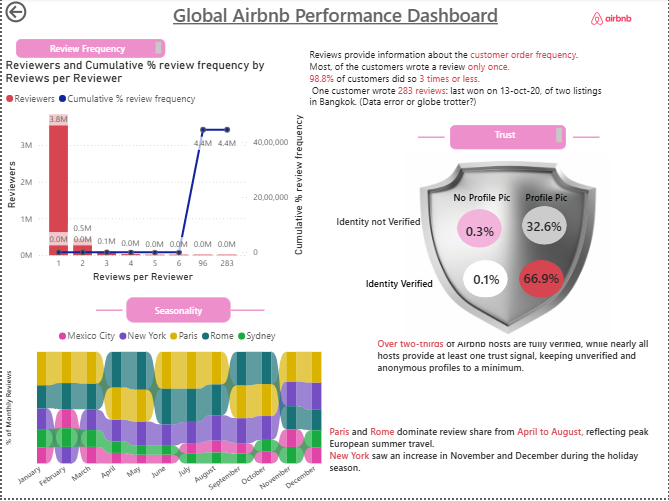

This screenshot's page, from the dashboard's own definition file:
{"tool":"powerbi","page":{"name":"Reviews","canvas":[960,720],"ordinal":2},"visuals":[{"type":"textbox","box":[112.1,0,735.8,59],"z":0},{"type":"image","box":[794.9,0,165.6,59],"z":1000},{"type":"textbox","box":[20.2,59,214.6,27.4],"z":2000},{"type":"actionButton","box":[0,0,100,40],"z":3000},{"type":"textbox","box":[437.4,67.5,433,116],"z":4000},{"type":"textbox","box":[644.4,183.5,167.3,35.2],"z":5000},{"type":"shape","box":[598.9,183.5,38.2,35.2],"z":6000},{"type":"shape","box":[822,183.5,38.2,35.2],"z":7000},{"type":"textbox","box":[535.8,484.4,424.2,79.3],"z":9000},{"type":"lineStackedColumnComboChart","fields":{"Category":["Reviews.Reviews per Reviewer"],"Y":["Reviews.Reviewers"],"Y2":["Reviews.Cumulative % review frequency"]},"box":[0,86.6,438.9,327.3],"z":10000},{"type":"image","box":[578.3,223.1,299.4,271.6],"z":10001},{"type":"shape","box":[663.5,377.2,64.6,54.3],"z":10003},{"type":"shape","box":[744.2,377.2,64.6,54.3],"z":10004},{"type":"shape","box":[748.6,299.4,64.6,55.8],"z":10005},{"type":"shape","box":[654.7,303.9,64.6,55.8],"z":10006},{"type":"textbox","box":[644.4,273,107.2,35.2],"z":10007},{"type":"textbox","box":[748.6,273,80.7,35.2],"z":10008},{"type":"textbox","box":[466.8,308.3,151.2,27.9],"z":10011},{"type":"textbox","box":[506.4,397.8,130.6,32.3],"z":10012},{"type":"card","fields":{"Values":["Listings.NotVerified_noProfile%"]},"box":[659.1,321.5,57.2,33.8],"z":10013},{"type":"card","fields":{"Values":["Listings.Verified_Profile%"]},"box":[741.3,387.5,70.5,35.2],"z":10015},{"type":"card","fields":{"Values":["Listings.Verified_NoProfile%"]},"box":[665,390.5,64.6,32.3],"z":10016},{"type":"card","fields":{"Values":["Listings.NotVerified_profile%"]},"box":[741.3,311.2,77.8,39.6],"z":10017},{"type":"ribbonChart","fields":{"Series":["Listings.city"],"Y":["Reviews.% of Monthly Reviews"],"Category":["Reviews.date.Variation.Date Hierarchy.Month"]},"box":[0,466.8,480,253.9],"z":10018},{"type":"textbox","box":[466.8,610.6,493.2,83.7],"z":10019},{"type":"textbox","box":[179.1,430.1,151.2,36.7],"z":10020},{"type":"shape","box":[135,431.6,38.2,35.2],"z":10021},{"type":"shape","box":[330.3,431.6,48.4,35.2],"z":10022}]}

Visuals, with their boxes in screenshot pixels (x1, y1, x2, y2), scaled from the page's 960x720 canvas onto the 669x501 screenshot:
textbox: x1=78 y1=0 x2=591 y2=41
image: x1=554 y1=0 x2=668 y2=41
textbox: x1=14 y1=41 x2=164 y2=60
actionButton: x1=0 y1=0 x2=70 y2=28
textbox: x1=305 y1=47 x2=607 y2=128
textbox: x1=449 y1=128 x2=566 y2=152
shape: x1=417 y1=128 x2=444 y2=152
shape: x1=573 y1=128 x2=599 y2=152
textbox: x1=373 y1=337 x2=668 y2=392
lineStackedColumnComboChart - Reviews.Reviews per Reviewer x Reviews.Reviewers: x1=0 y1=60 x2=306 y2=288
image: x1=403 y1=155 x2=612 y2=344
shape: x1=462 y1=262 x2=507 y2=300
shape: x1=519 y1=262 x2=564 y2=300
shape: x1=522 y1=208 x2=567 y2=247
shape: x1=456 y1=211 x2=501 y2=250
textbox: x1=449 y1=190 x2=524 y2=214
textbox: x1=522 y1=190 x2=578 y2=214
textbox: x1=325 y1=215 x2=431 y2=234
textbox: x1=353 y1=277 x2=444 y2=299
card - Listings.NotVerified_noProfile%: x1=459 y1=224 x2=499 y2=247
card - Listings.Verified_Profile%: x1=517 y1=270 x2=566 y2=294
card - Listings.Verified_NoProfile%: x1=463 y1=272 x2=508 y2=294
card - Listings.NotVerified_profile%: x1=517 y1=217 x2=571 y2=244
ribbonChart - Listings.city x Reviews.% of Monthly Reviews: x1=0 y1=325 x2=334 y2=500
textbox: x1=325 y1=425 x2=668 y2=483
textbox: x1=125 y1=299 x2=230 y2=325
shape: x1=94 y1=300 x2=121 y2=325
shape: x1=230 y1=300 x2=264 y2=325
